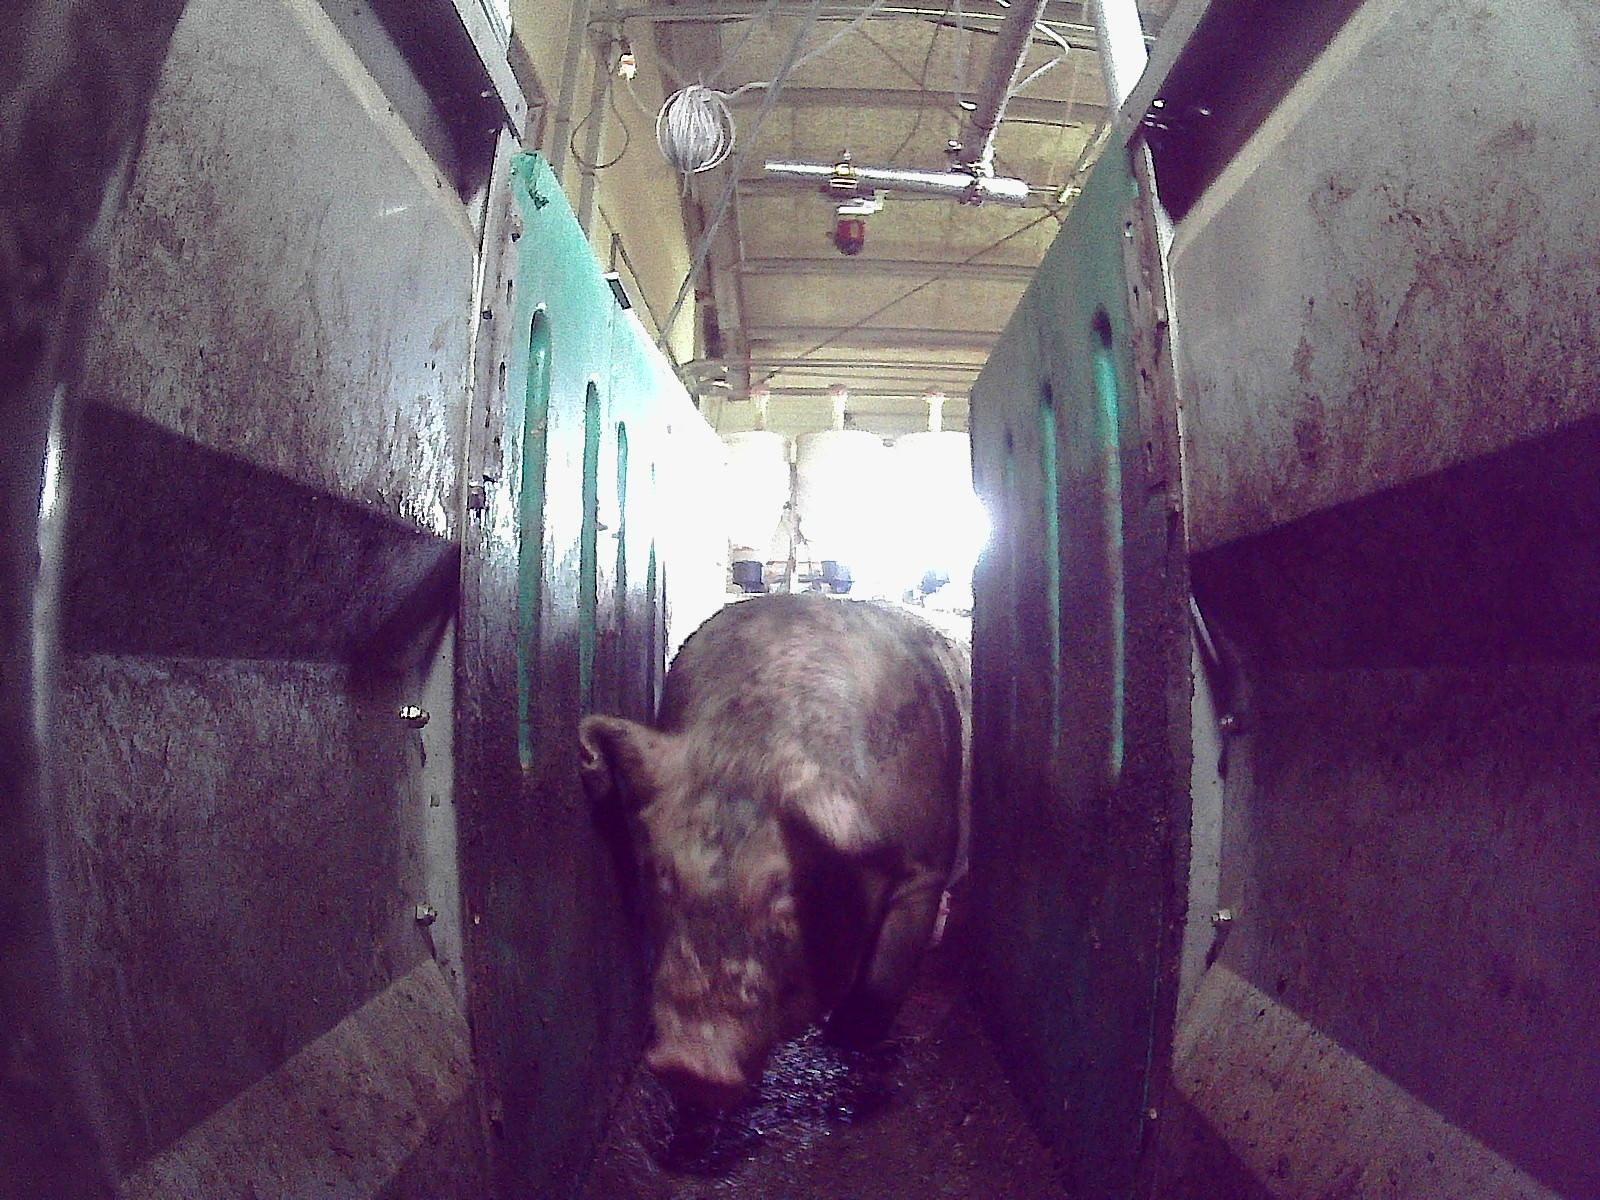Face: (642, 735, 878, 1107)
